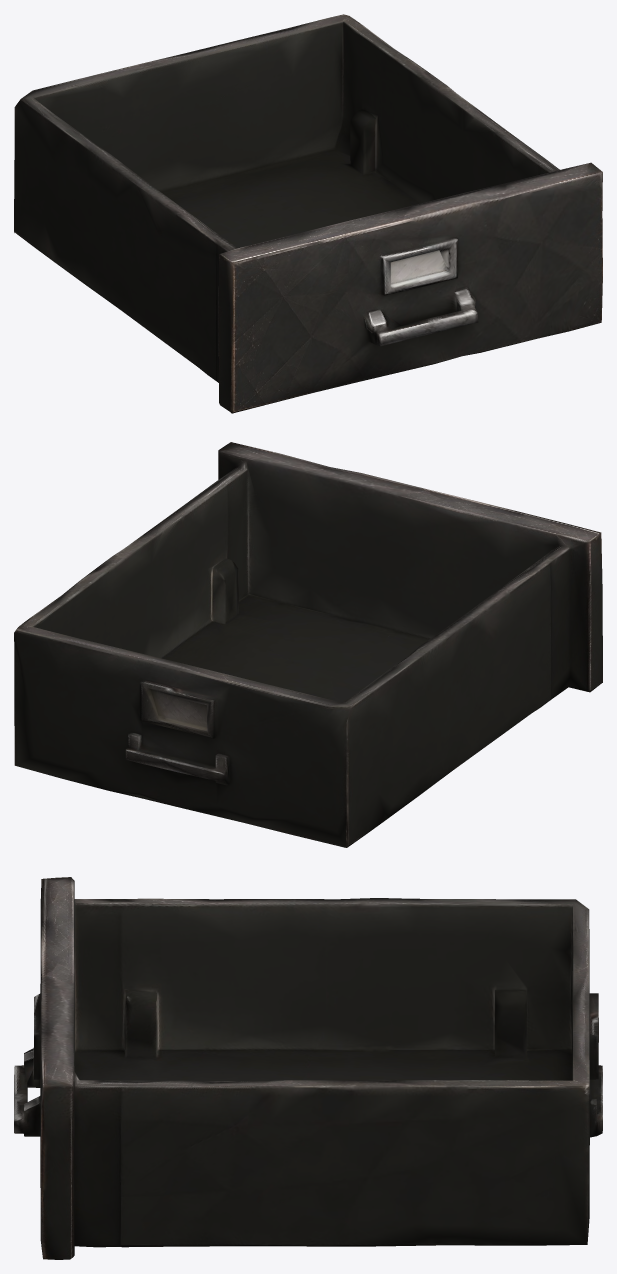
The model's file is filing_drawer_wide.glb.
3 views of the same model, one above another, from view 1: azimuth 30°, elevation 25°; view 2: azimuth 150°, elevation 25°; view 3: azimuth 270°, elevation 25° (orthographic). The views are drawn at different scales.
Parts seen in each view (by area): view 1: tripo_node_032b9942-2921-4731-a924-f1754ef1288e; view 2: tripo_node_032b9942-2921-4731-a924-f1754ef1288e; view 3: tripo_node_032b9942-2921-4731-a924-f1754ef1288e.
Boxes of the visible parts, x1,y1,x2,y2 form: tripo_node_032b9942-2921-4731-a924-f1754ef1288e: [14, 14, 602, 413]; tripo_node_032b9942-2921-4731-a924-f1754ef1288e: [14, 442, 602, 847]; tripo_node_032b9942-2921-4731-a924-f1754ef1288e: [14, 877, 602, 1259].
Bounding box in the file's own units: 0.8451 × 0.3298 × 1.
Materials: 1 (1 with a texture image).
